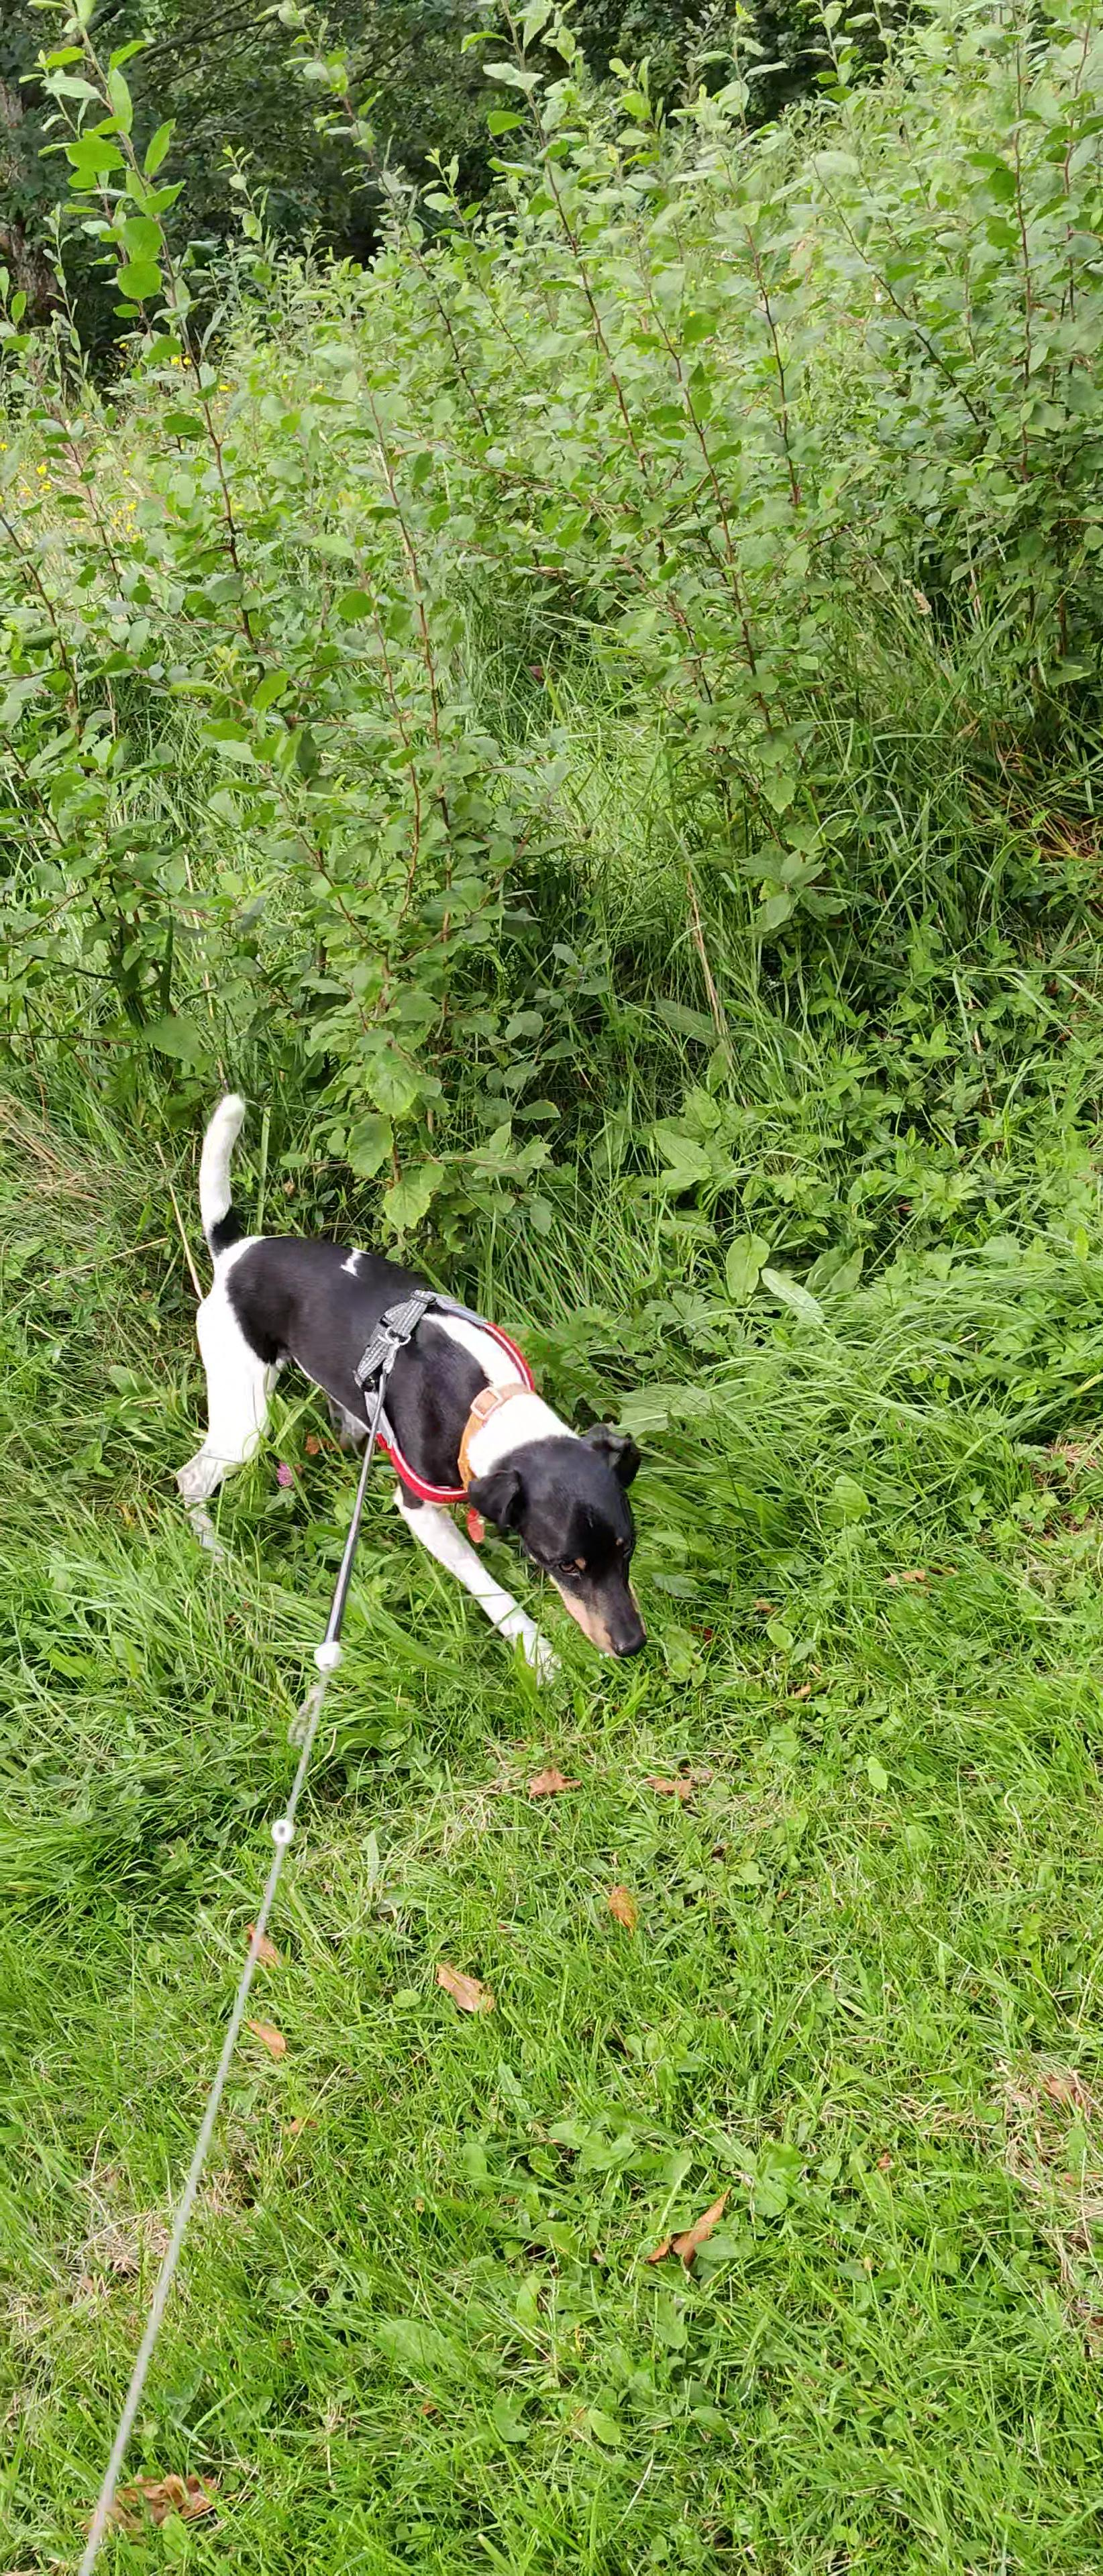Dog: (161, 1088, 664, 1699)
